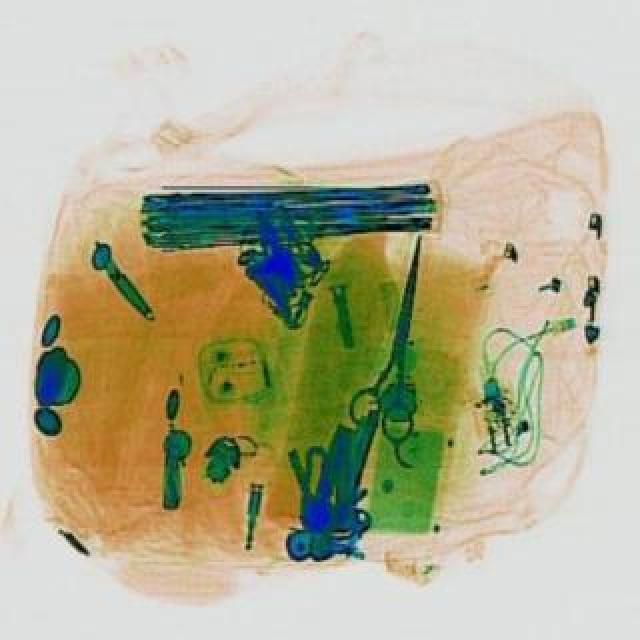pliers: (342, 226, 448, 438)
